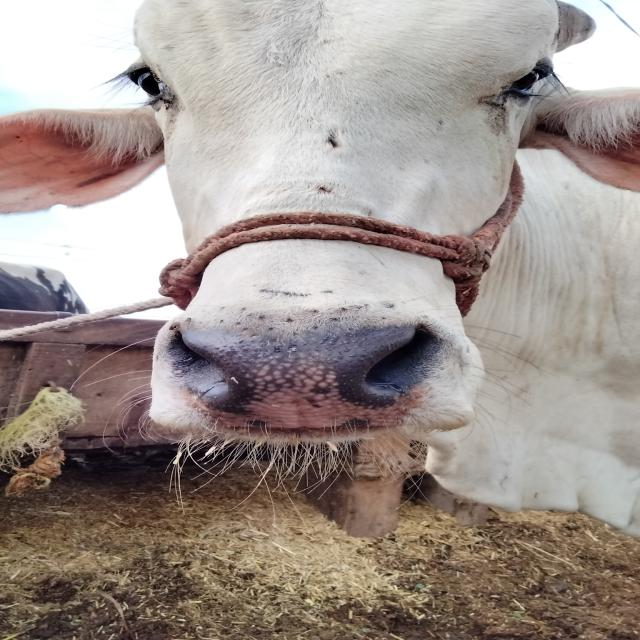muzzles: (150, 301, 458, 438)
